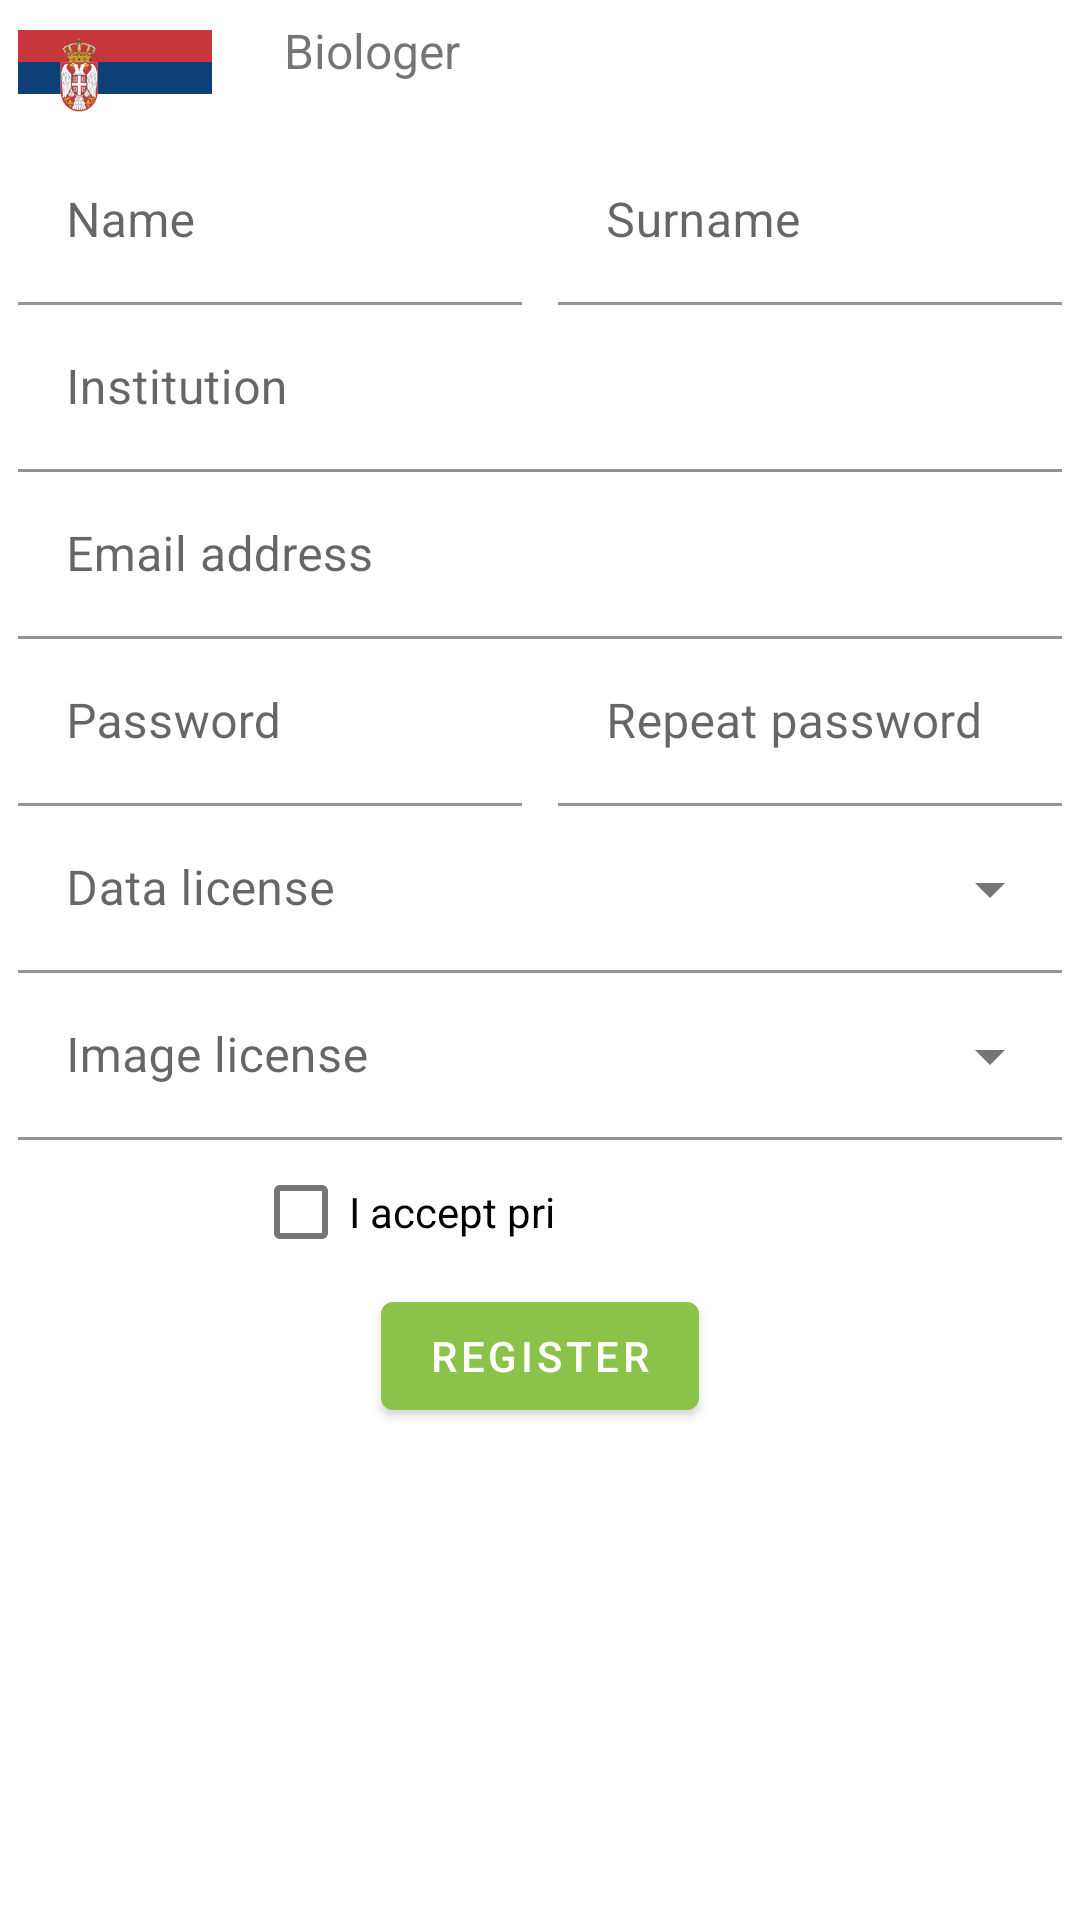

Point at icon controls on the screen. Image size 1080×1920, points as [x,y].
Serbian flag: [115,71]
